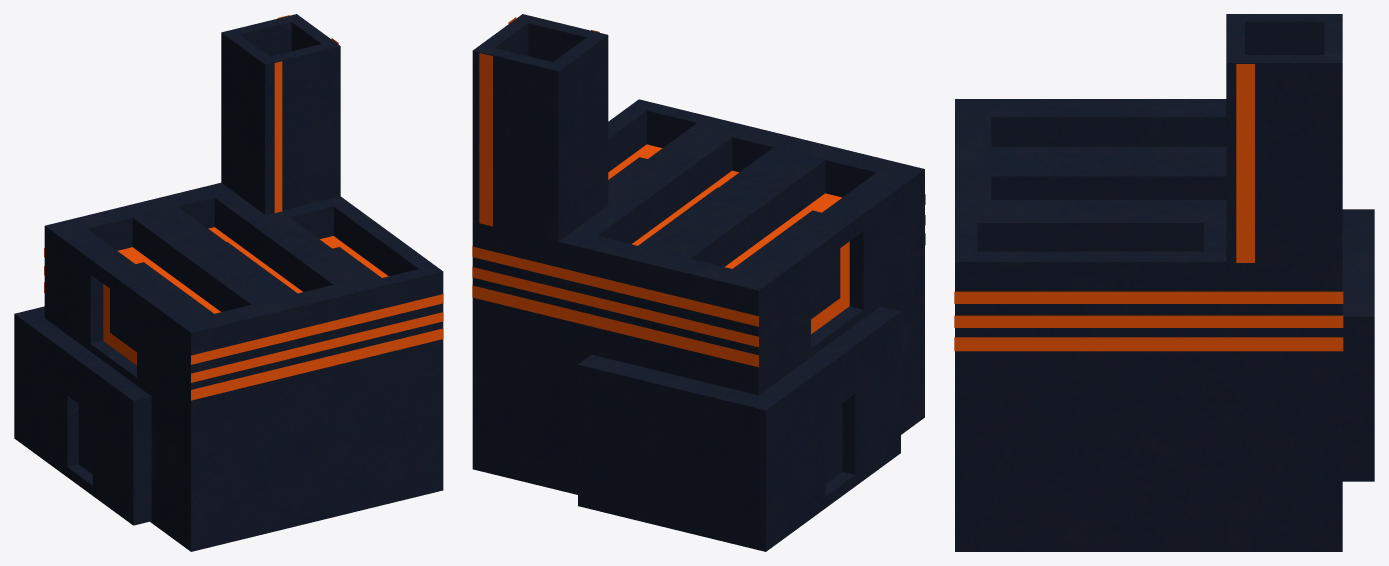
File: Pink House.fbx
3 views of the same model, side by side, from view 1: azimuth 30°, elevation 25°; view 2: azimuth 150°, elevation 25°; view 3: azimuth 270°, elevation 25° (orthographic). The views are drawn at different scales.
Visible parts, largest first — view 1: Pink House, Neon5; view 2: Pink House, Neon5; view 3: Pink House, Neon5.
Boxes of the visible parts, bbox=[...] form: Pink House: bbox=[14, 14, 443, 551]; Neon5: bbox=[44, 15, 443, 400]; Pink House: bbox=[472, 14, 924, 551]; Neon5: bbox=[472, 17, 925, 367]; Pink House: bbox=[955, 14, 1374, 551]; Neon5: bbox=[954, 64, 1343, 351].
Bounding box in the file's own units: 21.36 × 27.69 × 21.57.
